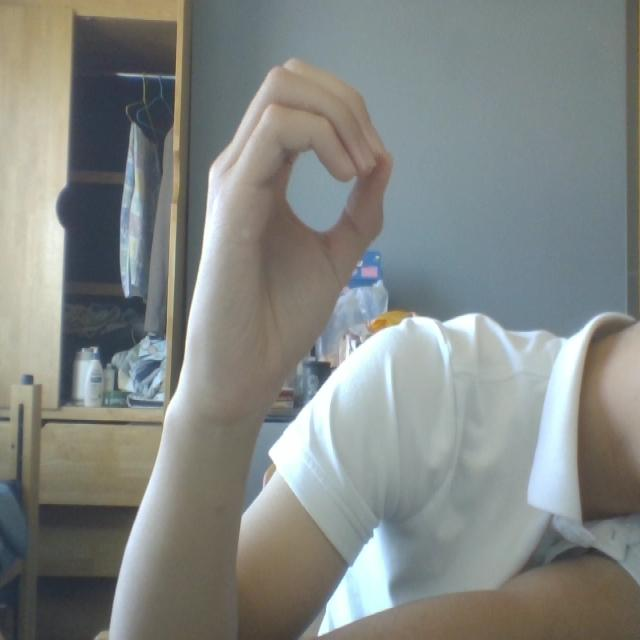O: (149, 31, 423, 434)
